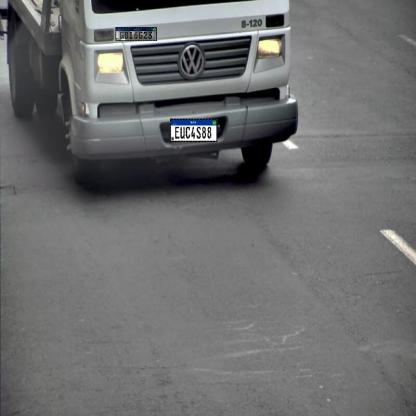PlacaM: (170, 119, 217, 142), (115, 27, 157, 41)
